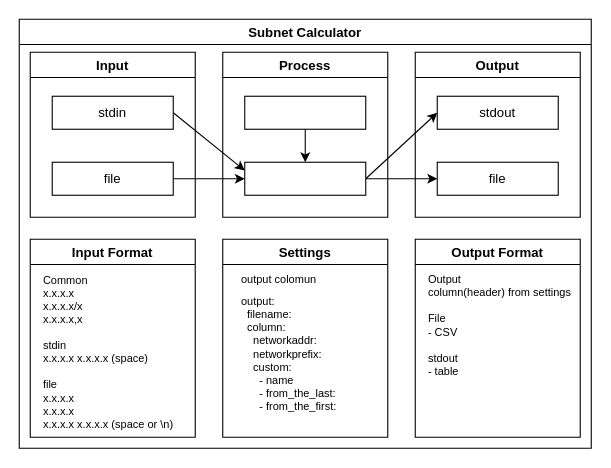
Image size: 611x468. Some labels were removed from this diagram. Here are the shapes that lost their labels. From the top down, the centre of each, then its label:
the point at 305,112: settings.yml
the point at 305,178: subcal.py
